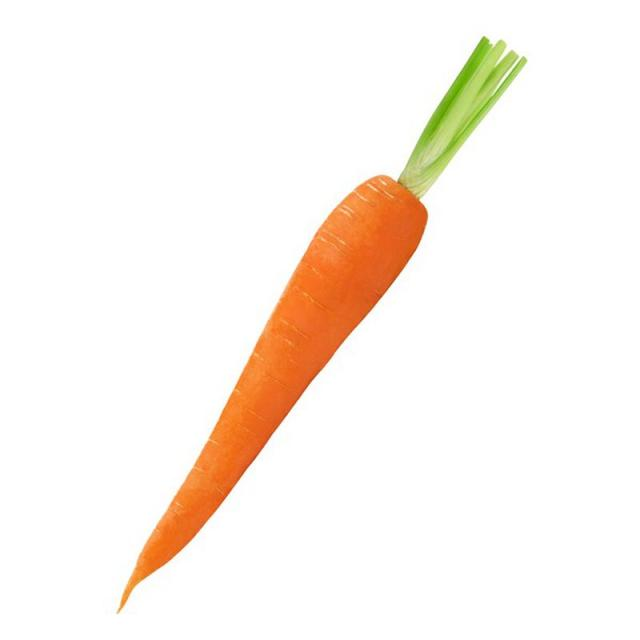Carrot: (82, 31, 540, 584)
